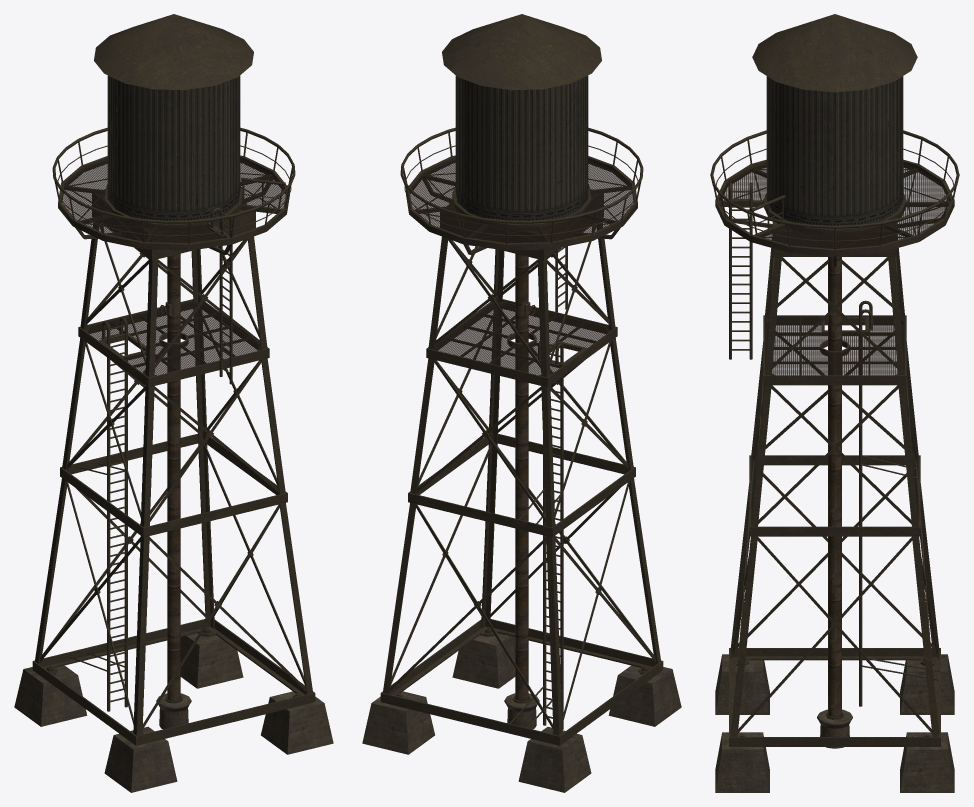
Rendered from water_tower_hm_1.glb.
3 renders of one model, left to right at view 1: azimuth 30°, elevation 25°; view 2: azimuth 150°, elevation 25°; view 3: azimuth 270°, elevation 25°, orthographic. The views are drawn at different scales.
Parts seen in each view (by area): view 1: water_tower_hm_1; view 2: water_tower_hm_1; view 3: water_tower_hm_1.
Part boxes in pixels (x1,y1,x2,y2): water_tower_hm_1: (14, 14, 333, 792); water_tower_hm_1: (362, 14, 681, 792); water_tower_hm_1: (710, 14, 959, 792).
Size of the model in its own units: 7.29 by 23.5 by 7.29.
Materials: 5 (5 with a texture image).
